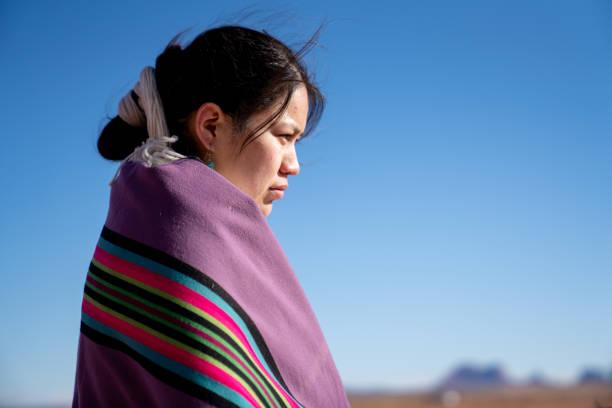Human: (67, 23, 339, 408)
